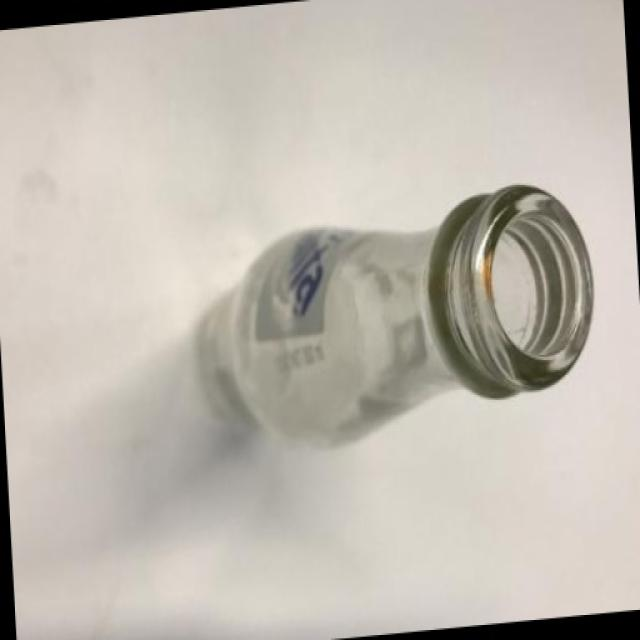vidrio: (185, 158, 640, 555)
